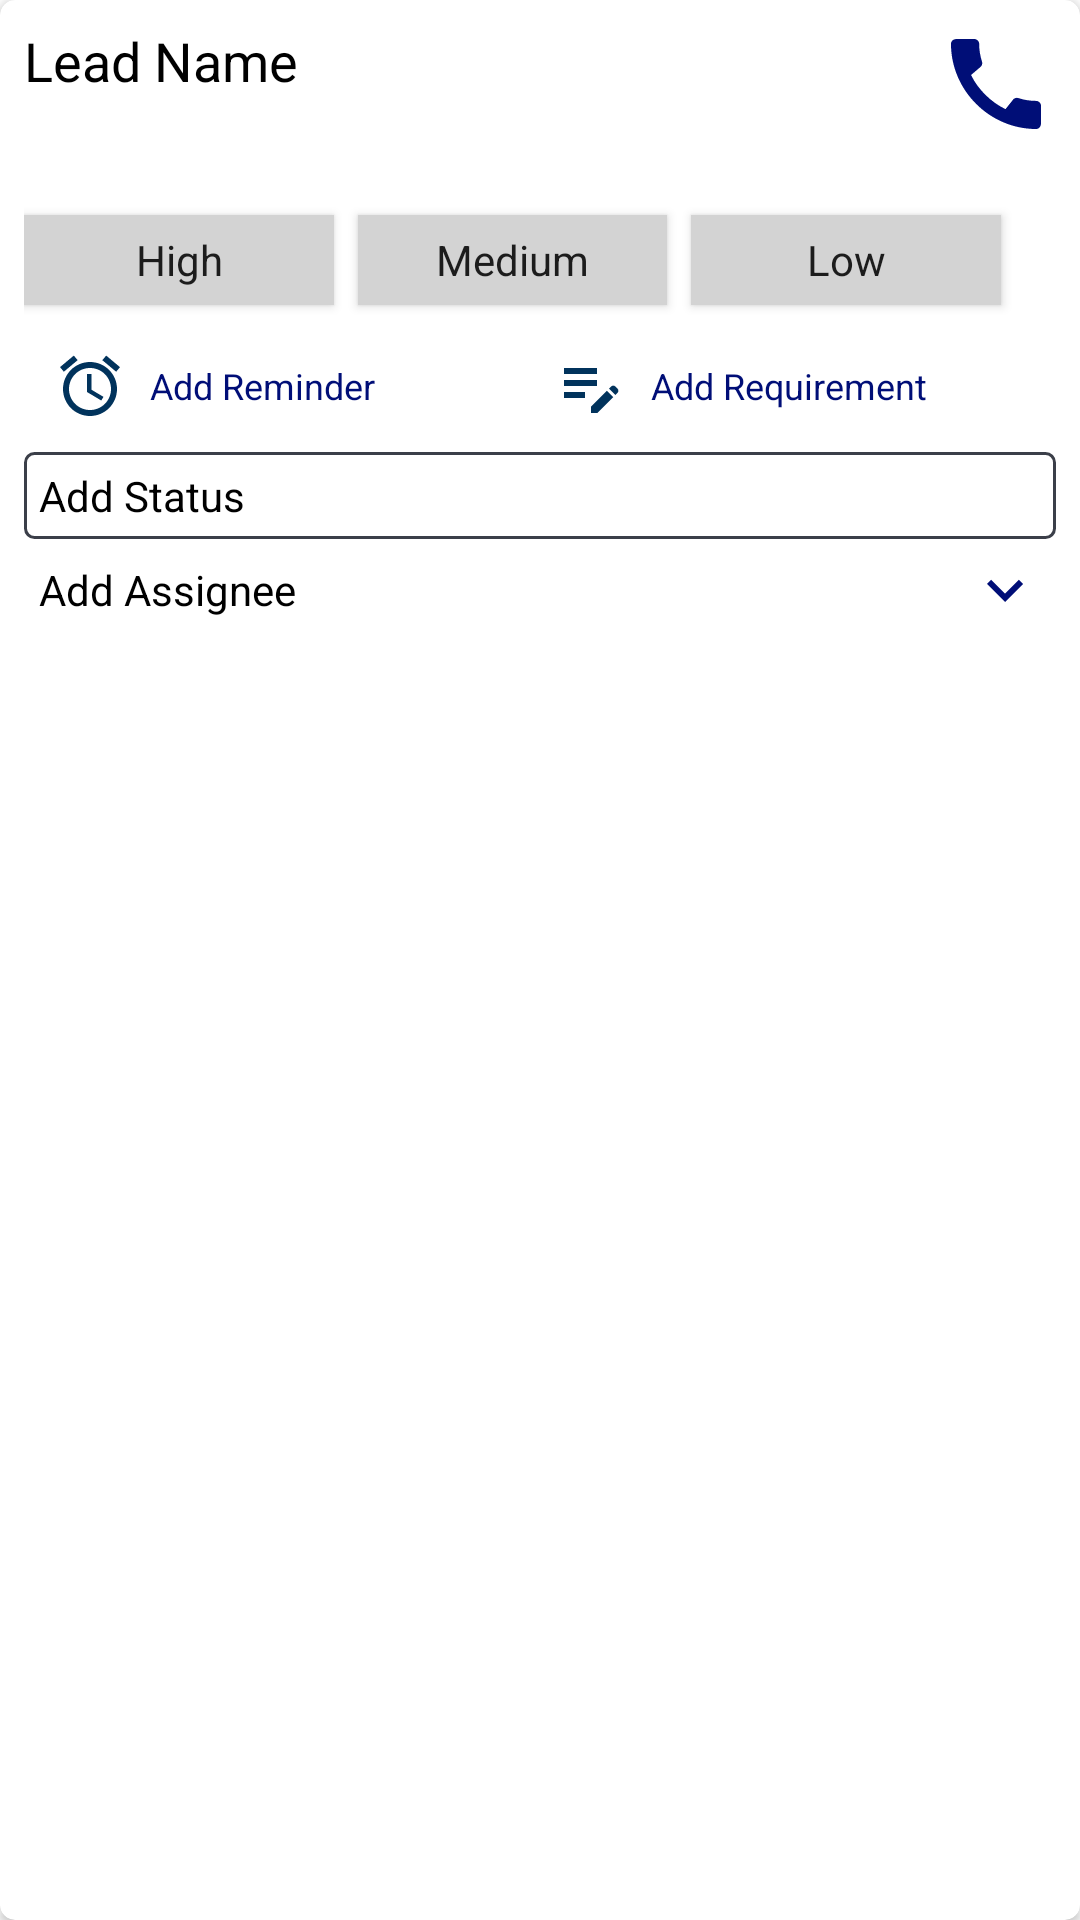

Icon click points for this 1080px×1920px phone screenshot, format (x,y):
call: (996,84)
